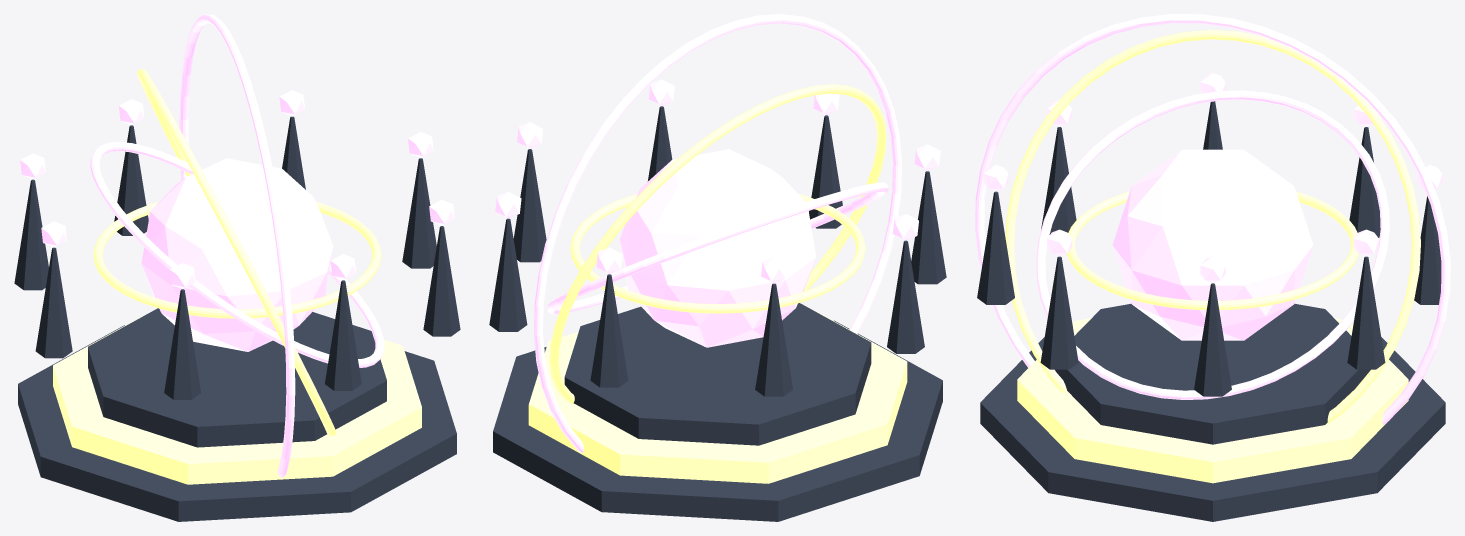
File: gpu-blender-v11.glb
The picture shows the model from 3 angles, left to right: view 1: azimuth 30°, elevation 25°; view 2: azimuth 150°, elevation 25°; view 3: azimuth 270°, elevation 25°; orthographic projection. The views are drawn at different scales.
Visible parts, largest first — view 1: Cylinder.002, SovereignCore_zoth-bot, Cylinder, Cylinder.001, Torus.003, Torus.001, Torus.002, Torus, Cone.004, Cone.007, Cone.005, Cone.006 (+12 smaller); view 2: Cylinder.002, SovereignCore_zoth-bot, Cylinder, Cylinder.001, Torus.003, Torus.002, Torus.001, Torus, Cone.002, Cone.003, Cone.001, Cone.004 (+11 smaller); view 3: SovereignCore_zoth-bot, Cylinder.002, Cylinder, Cylinder.001, Torus.003, Torus.002, Torus.001, Torus, Cone, Cone.001, Cone.007, Cone.006 (+8 smaller).
Part boxes in pixels (x1,y1,x2,y2): Cylinder.002: [88, 308, 386, 447]; SovereignCore_zoth-bot: [141, 158, 333, 351]; Cylinder: [18, 325, 456, 521]; Cylinder.001: [53, 316, 421, 484]; Torus.003: [179, 14, 295, 477]; Torus.001: [90, 142, 384, 367]; Torus.002: [137, 69, 336, 436]; Torus: [93, 202, 381, 318]; Cone.004: [35, 247, 72, 358]; Cone.007: [423, 226, 460, 336]; Cone.005: [164, 289, 201, 399]; Cone.006: [325, 280, 361, 390]; Cylinder.002: [564, 303, 871, 445]; SovereignCore_zoth-bot: [619, 149, 816, 347]; Cylinder: [493, 320, 942, 521]; Cylinder.001: [528, 311, 907, 483]; Torus.003: [533, 14, 902, 452]; Torus.002: [549, 84, 886, 403]; Torus.001: [547, 182, 888, 314]; Torus: [570, 193, 865, 313]; Cone.002: [590, 274, 628, 387]; Cone.003: [755, 283, 793, 396]; Cone.001: [489, 218, 527, 331]; Cone.004: [887, 240, 924, 353]; SovereignCore_zoth-bot: [1112, 149, 1313, 340]; Cylinder.002: [1055, 303, 1370, 444]; Cylinder: [980, 337, 1445, 521]; Cylinder.001: [1017, 318, 1408, 483]; Torus.003: [975, 14, 1450, 424]; Torus.002: [1005, 30, 1420, 423]; Torus.001: [1036, 90, 1389, 399]; Torus: [1067, 191, 1358, 310]; Cone: [1194, 283, 1231, 396]; Cone.001: [1347, 256, 1385, 369]; Cone.007: [1040, 256, 1078, 369]; Cone.006: [977, 191, 1014, 304].
Bounding box in the file's own units: 4.41 × 4.7 × 4.49.
